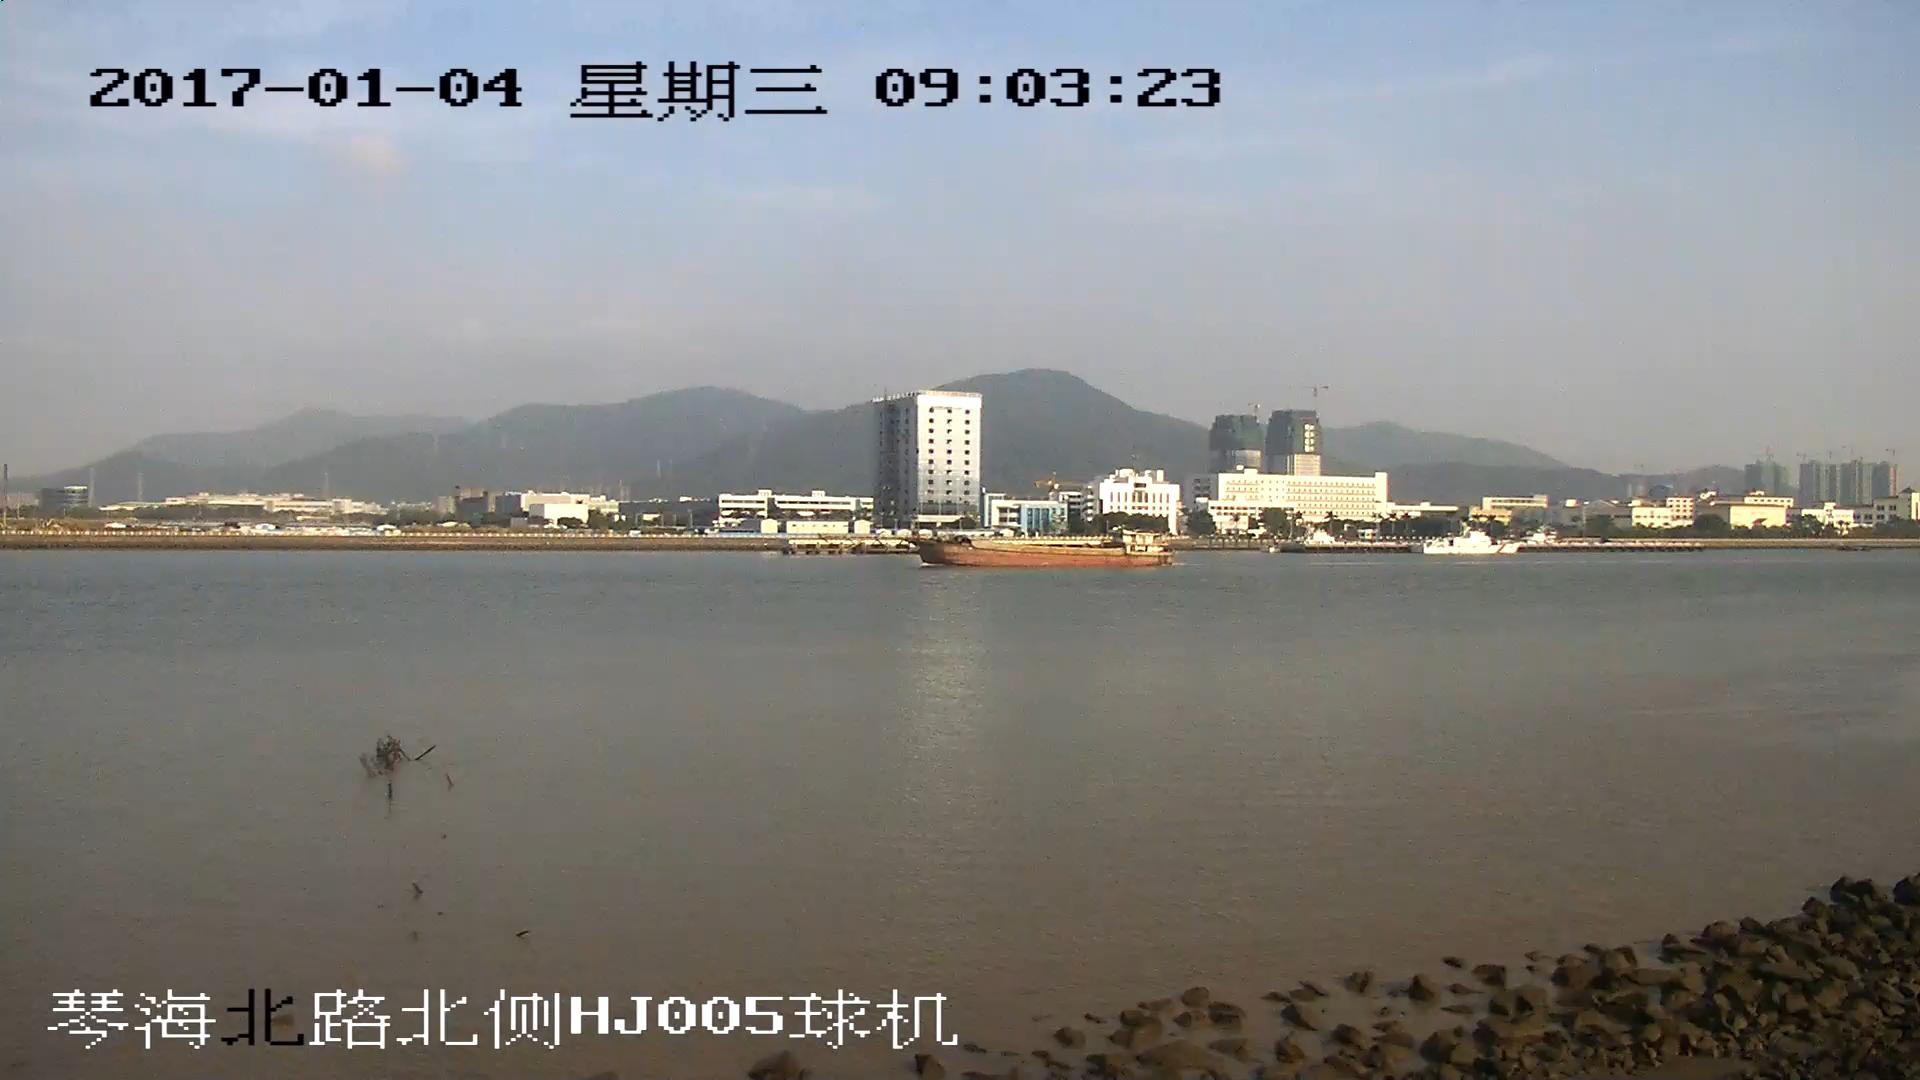bulk cargo carrier: (921, 530, 1177, 568)
